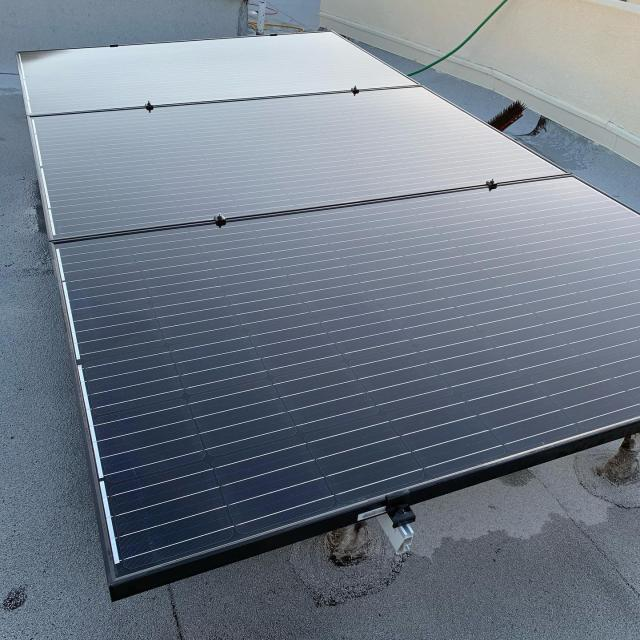no faulty: (17, 30, 640, 585)
